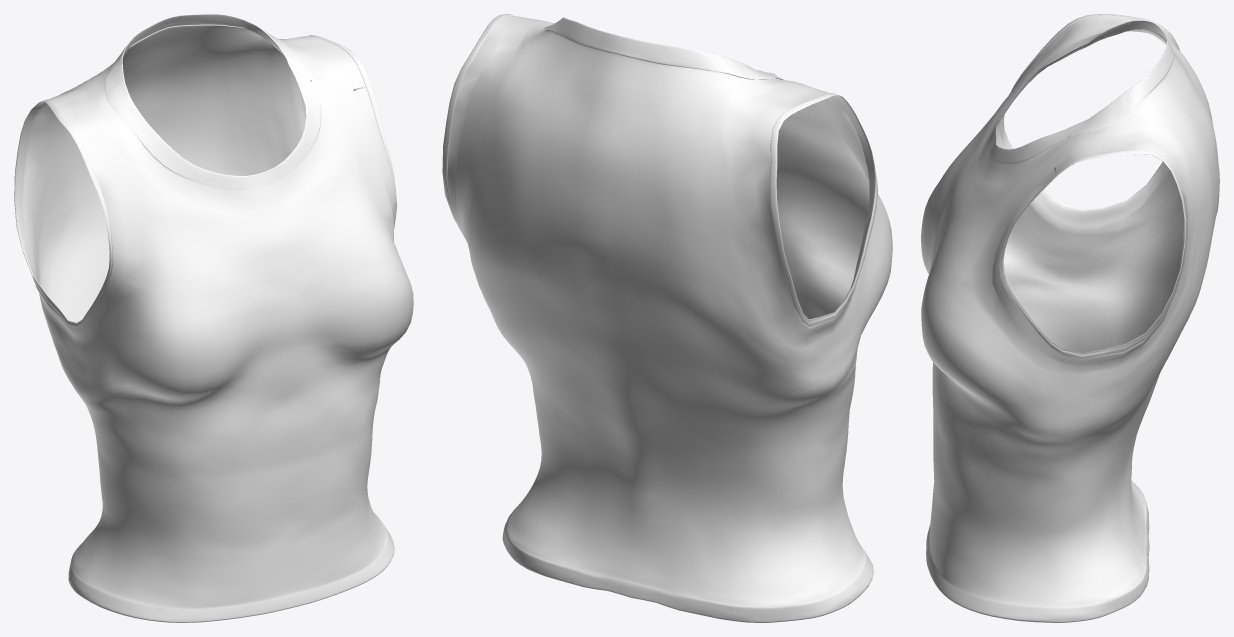
The model's file is Jersey.glb.
The picture shows the model from 3 angles, left to right: view 1: azimuth 30°, elevation 25°; view 2: azimuth 150°, elevation 25°; view 3: azimuth 270°, elevation 25°; orthographic projection. The views are drawn at different scales.
Visible parts, largest first — view 1: Tankini_for_Genesis.002; view 2: Tankini_for_Genesis.002; view 3: Tankini_for_Genesis.002.
Part boxes in pixels (x1=…): Tankini_for_Genesis.002: x1=14, y1=14, x2=413, y2=622; Tankini_for_Genesis.002: x1=442, y1=14, x2=892, y2=622; Tankini_for_Genesis.002: x1=921, y1=14, x2=1219, y2=622.
Bounding box in the file's own units: 5.75 × 9.1 × 4.82.
Materials: 1 (1 with a texture image).
